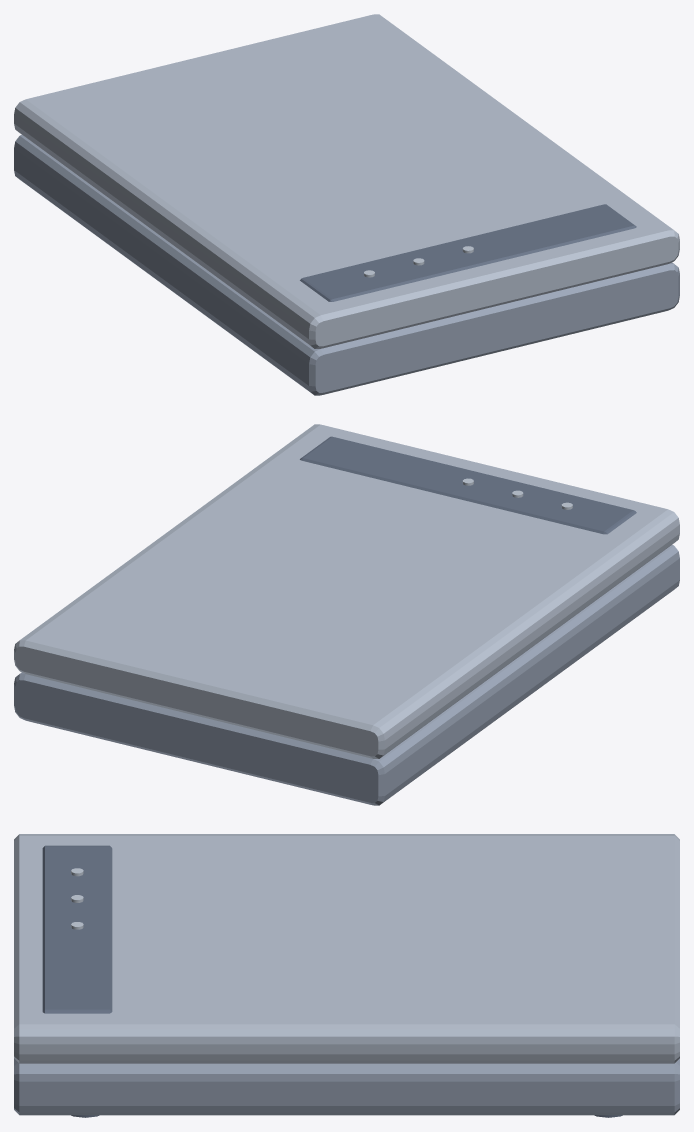
The model's file is scanner-lite.glb.
3 renders of one model, top to bottom at view 1: azimuth 30°, elevation 25°; view 2: azimuth 150°, elevation 25°; view 3: azimuth 270°, elevation 25°, orthographic. The views are drawn at different scales.
Visible parts, largest first — view 1: soft, body, dark; view 2: soft, body, dark; view 3: soft, body, dark.
Boxes of the visible parts, box(x1,y1,x2,y2) form: soft: box(14, 14, 679, 348); body: box(14, 135, 679, 395); dark: box(300, 204, 636, 301); soft: box(14, 424, 679, 758); body: box(14, 545, 679, 805); dark: box(300, 436, 636, 534); soft: box(14, 834, 679, 1063); body: box(14, 1058, 679, 1115); dark: box(42, 845, 622, 1117).
Bounding box in the file's own units: 0.3 × 0.074 × 0.42.
